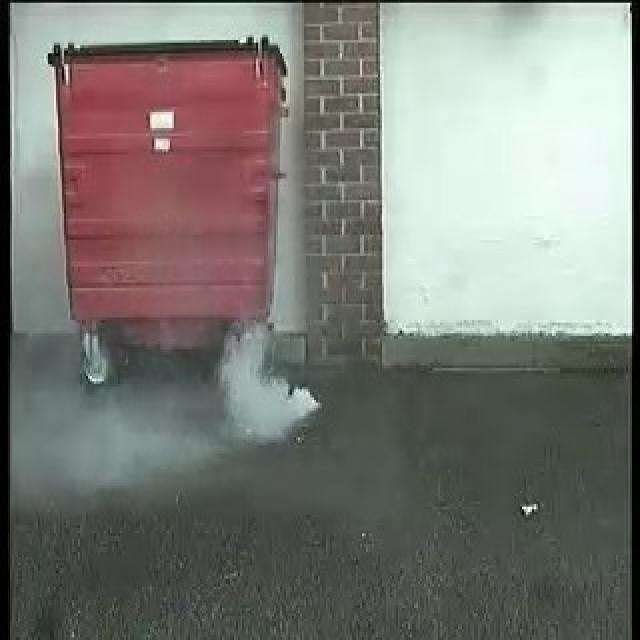smoke: (129, 321, 323, 438)
